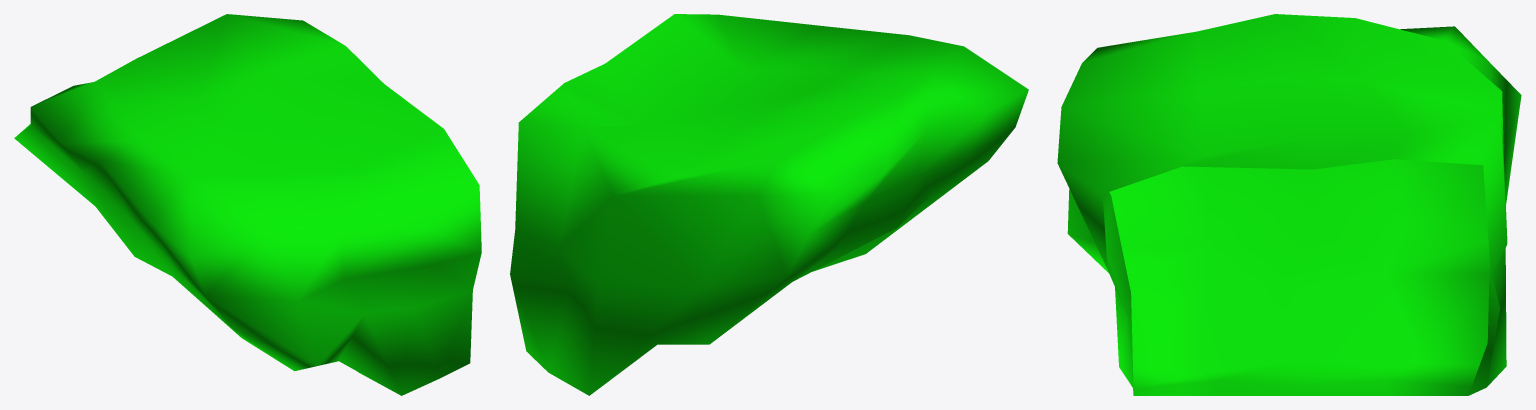
File: SmallWallAttachment02_mesh.fbx
3 renders of one model, left to right at view 1: azimuth 30°, elevation 25°; view 2: azimuth 150°, elevation 25°; view 3: azimuth 270°, elevation 25°, orthographic. The views are drawn at different scales.
Visible parts, largest first — view 1: Small_wallattachment02_model; view 2: Small_wallattachment02_model; view 3: Small_wallattachment02_model.
Part boxes in pixels (x1,y1,x2,y2): Small_wallattachment02_model: [14, 14, 481, 395]; Small_wallattachment02_model: [510, 14, 1028, 395]; Small_wallattachment02_model: [1057, 14, 1521, 395].
Size of the model in its own units: 8 by 6.6 by 10.39.
